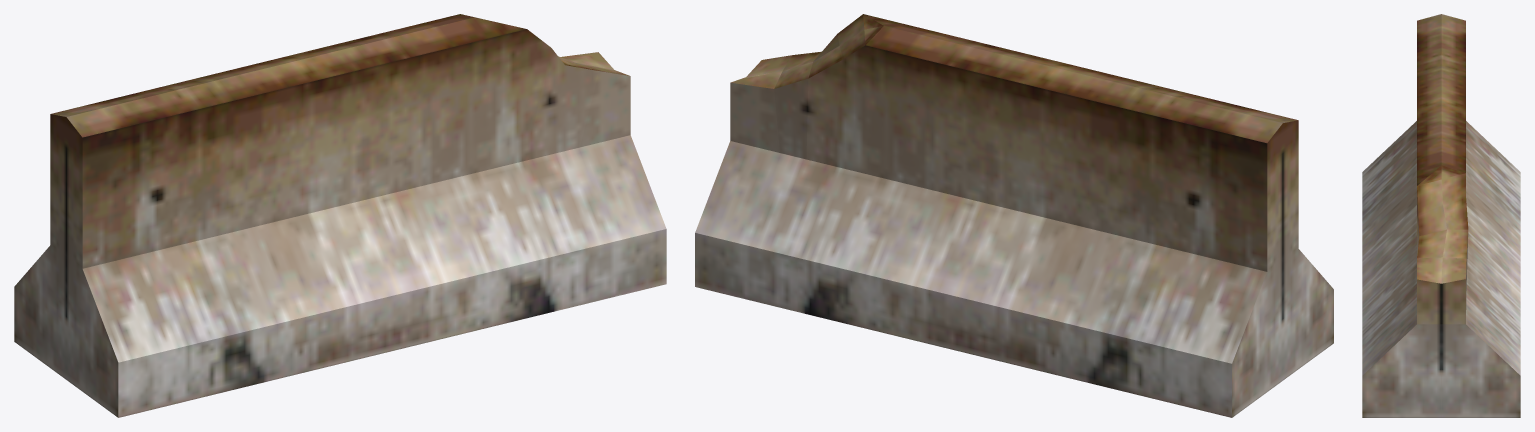
The model's file is Urban_JerseyBarrierBrokenEdgeDirty_Model.fbx.
The picture shows the model from 3 angles, left to right: view 1: azimuth 30°, elevation 25°; view 2: azimuth 150°, elevation 25°; view 3: azimuth 270°, elevation 25°; orthographic projection. The views are drawn at different scales.
Visible parts, largest first — view 1: Urban_JerseyBarrierBrokenEdgeDirty_Mesh; view 2: Urban_JerseyBarrierBrokenEdgeDirty_Mesh; view 3: Urban_JerseyBarrierBrokenEdgeDirty_Mesh.
Part boxes in pixels (x1,y1,x2,y2): Urban_JerseyBarrierBrokenEdgeDirty_Mesh: (14,14,666,417); Urban_JerseyBarrierBrokenEdgeDirty_Mesh: (695,14,1333,417); Urban_JerseyBarrierBrokenEdgeDirty_Mesh: (1362,14,1520,417).
Bounding box in the file's own units: 2.48 × 1.14 × 0.8144.
